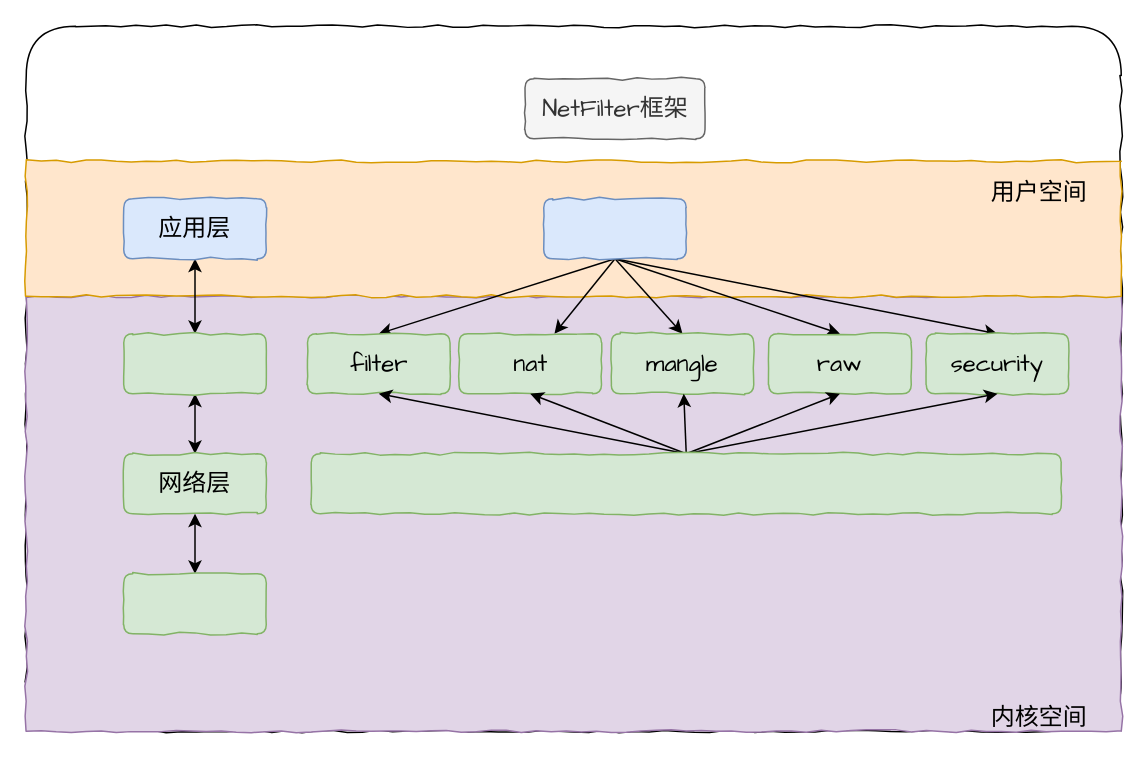
Some shapes in this 1148 by 765 pixel diagram are drawn without their labels. Here are the shapes that lost their labels. From the top down, the centre of each, then its label:
At point (614, 228): "iptables".
At point (194, 363): "传输层".
At point (685, 483): "NetFilter".
At point (194, 603): "网络接口层".
